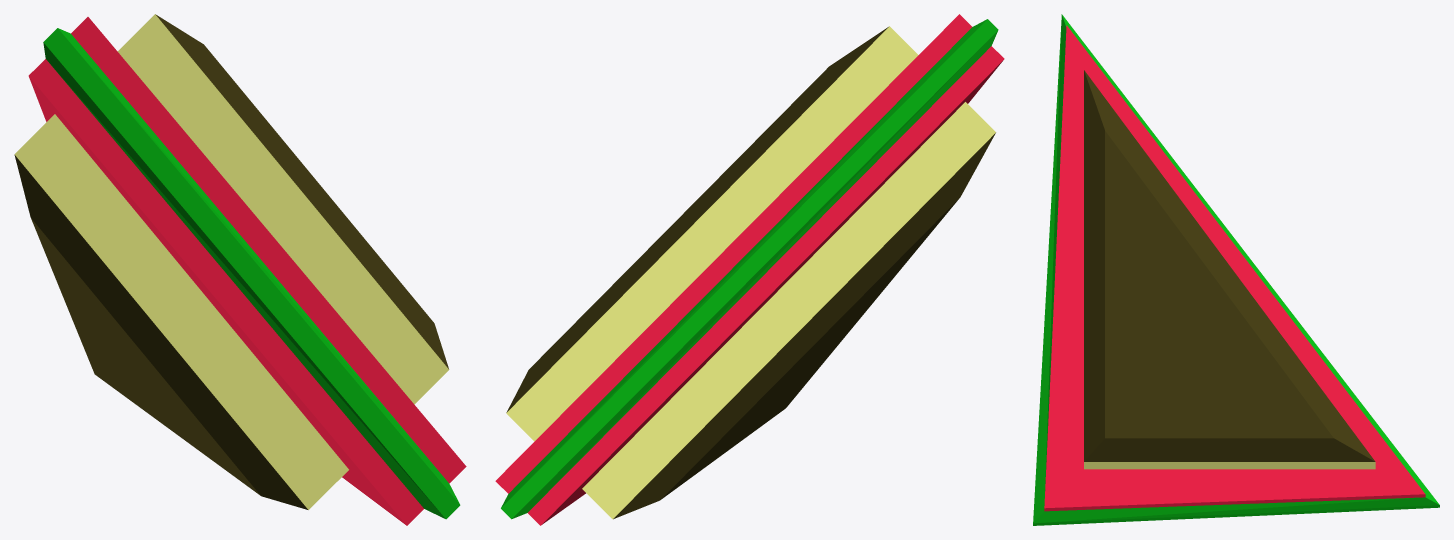
The model's file is Projectile_Sandwich.FBX.
The picture shows the model from 3 angles, left to right: view 1: azimuth 30°, elevation 25°; view 2: azimuth 150°, elevation 25°; view 3: azimuth 270°, elevation 25°; orthographic projection. The views are drawn at different scales.
Parts seen in each view (by area): view 1: Box018; view 2: Box018; view 3: Box018.
Part boxes in pixels (left/top/right/bottom): Box018: left=14, top=14, right=466, bottom=525; Box018: left=495, top=14, right=1004, bottom=525; Box018: left=1033, top=14, right=1439, bottom=525.
Bounding box in the file's own units: 0.6499 × 0.8149 × 0.7652.
